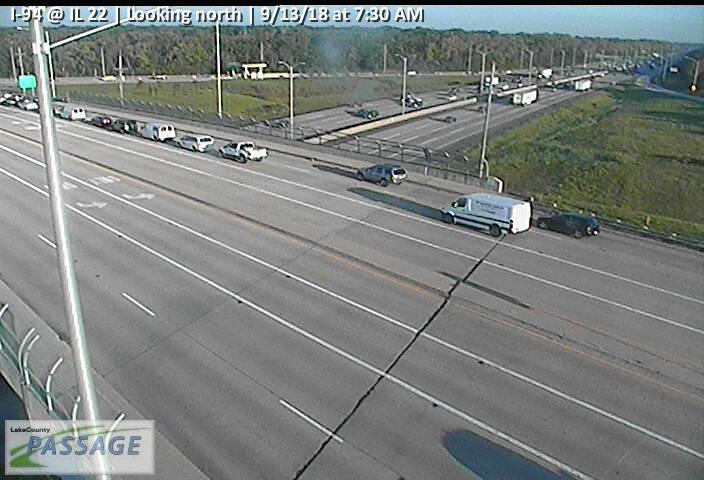SUV: (439, 194, 531, 236), (178, 133, 214, 152), (143, 123, 175, 140)
Sedan: (537, 212, 599, 239), (356, 163, 407, 185), (115, 117, 137, 133), (91, 115, 111, 127)
Truck: (222, 141, 268, 162), (510, 89, 540, 107), (574, 79, 592, 90)
